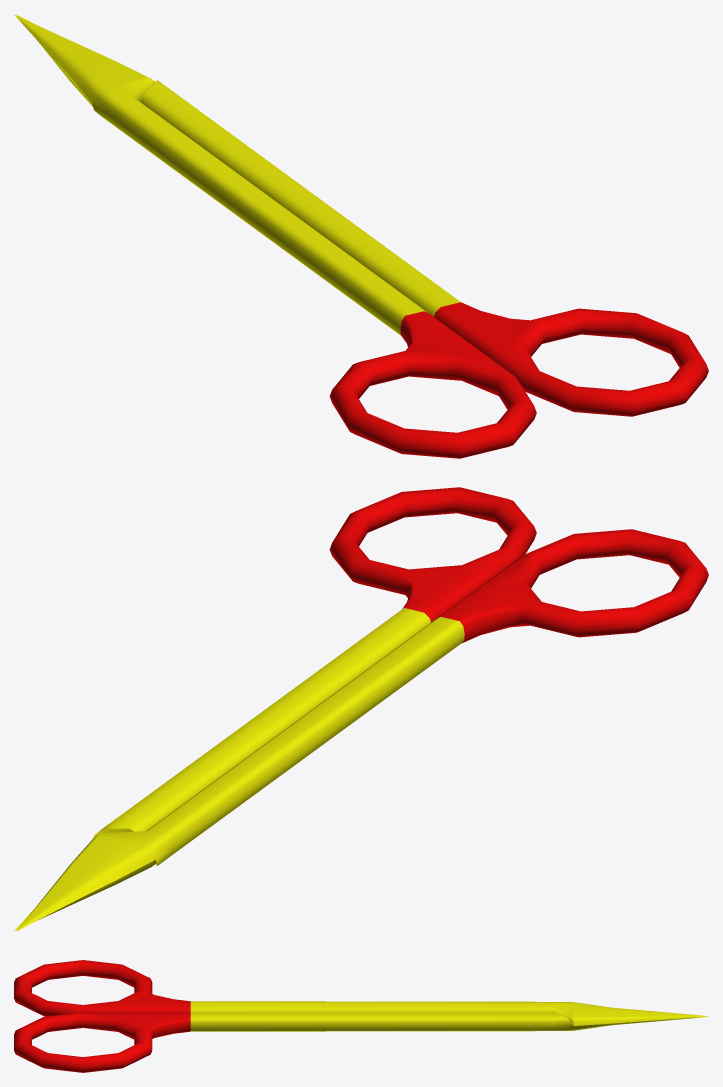
Rendered from FO_Scissors.fbx.
3 renders of one model, top to bottom at view 1: azimuth 30°, elevation 25°; view 2: azimuth 150°, elevation 25°; view 3: azimuth 270°, elevation 25°, orthographic. The views are drawn at different scales.
Visible parts, largest first — view 1: left, right; view 2: left, right; view 3: right, left.
Boxes of the visible parts, x1,y1,x2,y2 form: left: [14, 15, 536, 458]; right: [16, 14, 708, 416]; left: [16, 529, 708, 931]; right: [14, 487, 536, 930]; right: [14, 1012, 707, 1072]; left: [14, 960, 707, 1025].
Size of the model in its own units: 0.0601 by 0.00372 by 0.1701.
